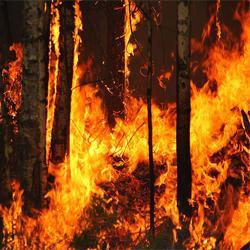fire: (66, 89, 173, 168), (192, 67, 250, 163), (39, 174, 88, 239)
